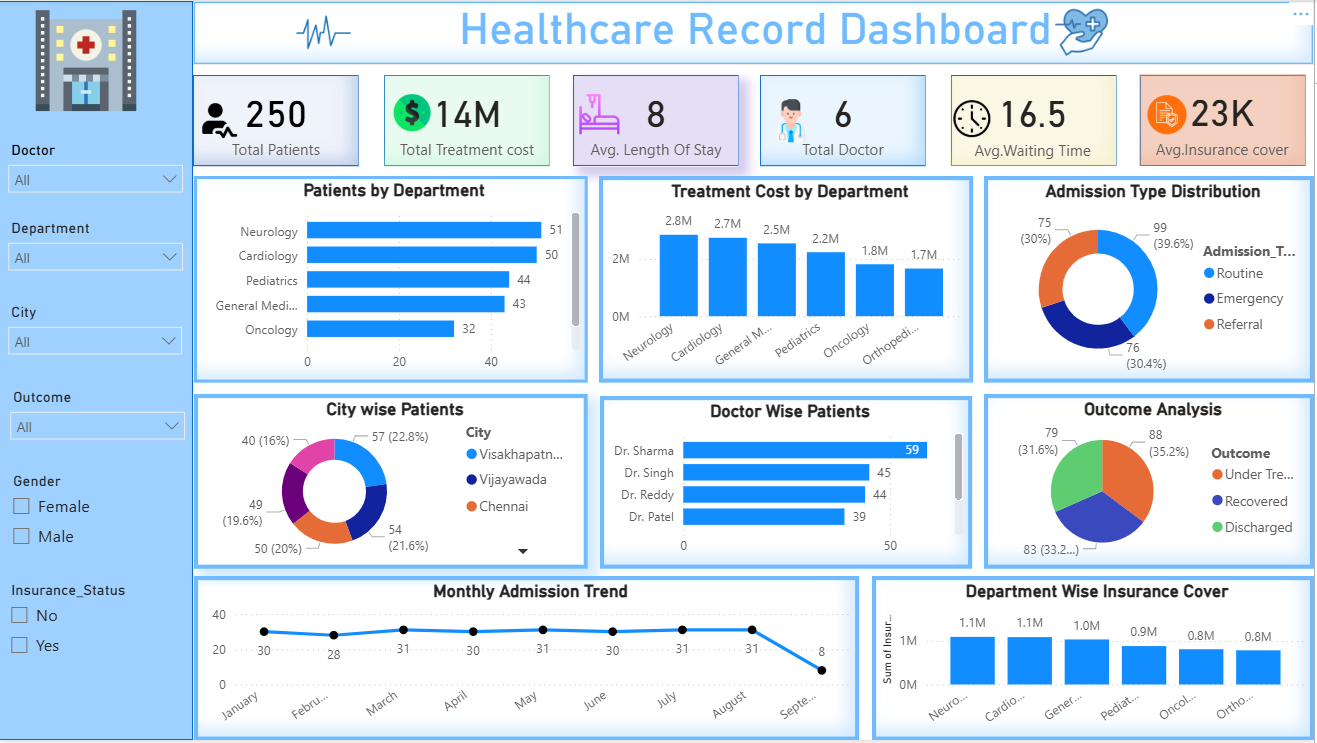

Layout of this report page (visuals, bound fields, positions):
{"tool":"powerbi","page":{"name":"Page 1","canvas":[1280,720],"ordinal":0},"visuals":[{"type":"textbox","title":"Healthcare Record Dashboard","box":[189.7,1,1090.3,62.2],"z":0},{"type":"shape","box":[0,1,189.7,718.8],"z":1000},{"type":"image","box":[979.5,0,149.8,63.2],"z":2000},{"type":"image","box":[241.2,0,151.7,63.2],"z":3000},{"type":"shape","box":[189.7,72.9,161.5,88.5],"z":4000},{"type":"shape","box":[375.4,72.9,161.5,88.5],"z":5000},{"type":"shape","box":[559.3,72.9,161.5,88.5],"z":6000},{"type":"shape","box":[741.2,72.9,161.5,88.5],"z":7000},{"type":"shape","box":[926.9,72.9,161.5,88.5],"z":8000},{"type":"shape","box":[1110.8,72.9,161.5,88.5],"z":9000},{"type":"card","fields":{"Values":["Healthcare Data.count_patient"]},"box":[189.7,72.9,161.5,88.5],"z":10000},{"type":"image","box":[189.7,95.3,51.6,43.8],"z":11000},{"type":"card","fields":{"Values":["Sum(Healthcare Data.Treatment_Cost)"]},"box":[375.4,72.9,161.5,88.5],"z":12000},{"type":"card","fields":{"Values":["Healthcare Data.Avg.Insurance cover"]},"box":[1110.1,71.9,161.9,88.9],"z":13000},{"type":"card","fields":{"Values":["Healthcare Data.Average_waiting"]},"box":[926.3,73.9,160.9,87.9],"z":14000},{"type":"card","fields":{"Values":["Healthcare Data.Total_Doctor"]},"box":[741.2,72.9,161.5,88.5],"z":15000},{"type":"card","fields":{"Values":["Healthcare Data.average_Stay"]},"box":[559.3,72.9,161.5,88.5],"z":16000},{"type":"image","box":[362.8,86.6,80.7,45.7],"z":17000},{"type":"image","box":[739.2,91.4,63.2,51.6],"z":18000},{"type":"image","box":[552.5,86.6,64.2,48.6],"z":19000},{"type":"image","box":[916.3,91.9,63,46],"z":20000},{"type":"image","box":[1102.1,87.9,69.9,48],"z":21000},{"type":"barChart","title":"Patients by Department","fields":{"Y":["Healthcare Data.count_patient"],"Category":["Healthcare Data.Department"]},"box":[190.6,171.2,383.2,201.3],"z":22000},{"type":"columnChart","title":"Treatment Cost by Department","fields":{"Y":["Sum(Healthcare Data.Treatment_Cost)"],"Category":["Healthcare Data.Department"]},"box":[584.6,171.2,363.8,201.3],"z":23000},{"type":"donutChart","title":"Admission Type Distribution","fields":{"Category":["Healthcare Data.Admission_Type"],"Y":["Healthcare Data.count_patient"]},"box":[959,171.2,321,201.3],"z":24000},{"type":"lineChart","title":"Monthly Admission Trend","fields":{"Category":["Healthcare Data.Admission_Date.Variation.Date Hierarchy.Month"],"Y":["Healthcare Data.count_patient"]},"box":[190.6,560.2,646.8,159.5],"z":25000},{"type":"donutChart","title":"City wise Patients","fields":{"Category":["Healthcare Data.City"],"Y":["Healthcare Data.count_patient"]},"box":[190.6,383.2,383.2,170.2],"z":26000},{"type":"clusteredBarChart","title":"Doctor Wise Patients","fields":{"Category":["Healthcare Data.Doctor"],"Y":["Healthcare Data.count_patient"]},"box":[585.5,385.2,361.8,168.3],"z":27000},{"type":"pieChart","title":"Outcome Analysis","fields":{"Category":["Healthcare Data.Outcome"],"Y":["Healthcare Data.count_patient"]},"box":[959,383.2,321,170.2],"z":28000},{"type":"columnChart","title":"Department Wise Insurance Cover","fields":{"Category":["Healthcare Data.Department"],"Y":["Sum(Healthcare Data.Insurance_Cover)"]},"box":[850.1,560.2,429.9,159.5],"z":29000},{"type":"image","box":[14.6,0,143,117.7],"z":30000},{"type":"slicer","fields":{"Values":["Healthcare Data.Doctor"]},"box":[0,132.3,189.7,82.7],"z":31000},{"type":"slicer","fields":{"Values":["Healthcare Data.Gender"]},"box":[1.9,454.2,190.6,92.4],"z":31001},{"type":"slicer","fields":{"Values":["Healthcare Data.Department"]},"box":[0,208.1,189.7,92.4],"z":31002},{"type":"slicer","fields":{"Values":["Healthcare Data.City"]},"box":[0,289.8,188.7,82.7],"z":31003},{"type":"slicer","fields":{"Values":["Healthcare Data.Outcome"]},"box":[1.9,372.5,189.7,81.7],"z":31004},{"type":"slicer","fields":{"Values":["Healthcare Data.Insurance_Status"]},"box":[0,560.2,189.7,92.4],"z":31005}]}

Visuals, with their boxes in screenshot pixels (x1, y1, x2, y2), scaled from the page's 1280x720 canvas onto the 1317x743 screenshot:
"Healthcare Record Dashboard" textbox: BBox(195, 1, 1316, 65)
shape: BBox(0, 1, 195, 742)
image: BBox(1008, 0, 1162, 65)
image: BBox(248, 0, 404, 65)
shape: BBox(195, 75, 361, 167)
shape: BBox(386, 75, 552, 167)
shape: BBox(575, 75, 742, 167)
shape: BBox(763, 75, 929, 167)
shape: BBox(954, 75, 1120, 167)
shape: BBox(1143, 75, 1309, 167)
card - Healthcare Data.count_patient: BBox(195, 75, 361, 167)
image: BBox(195, 98, 248, 144)
card - Sum(Healthcare Data.Treatment_Cost): BBox(386, 75, 552, 167)
card - Healthcare Data.Avg.Insurance cover: BBox(1142, 74, 1309, 166)
card - Healthcare Data.Average_waiting: BBox(953, 76, 1119, 167)
card - Healthcare Data.Total_Doctor: BBox(763, 75, 929, 167)
card - Healthcare Data.average_Stay: BBox(575, 75, 742, 167)
image: BBox(373, 89, 456, 137)
image: BBox(761, 94, 826, 148)
image: BBox(568, 89, 635, 140)
image: BBox(943, 95, 1008, 142)
image: BBox(1134, 91, 1206, 140)
"Patients by Department" barChart: BBox(196, 177, 590, 384)
"Treatment Cost by Department" columnChart: BBox(601, 177, 976, 384)
"Admission Type Distribution" donutChart: BBox(987, 177, 1316, 384)
"Monthly Admission Trend" lineChart: BBox(196, 578, 862, 742)
"City wise Patients" donutChart: BBox(196, 395, 590, 571)
"Doctor Wise Patients" clusteredBarChart: BBox(602, 398, 975, 571)
"Outcome Analysis" pieChart: BBox(987, 395, 1316, 571)
"Department Wise Insurance Cover" columnChart: BBox(875, 578, 1316, 742)
image: BBox(15, 0, 162, 121)
slicer - Healthcare Data.Doctor: BBox(0, 137, 195, 222)
slicer - Healthcare Data.Gender: BBox(2, 469, 198, 564)
slicer - Healthcare Data.Department: BBox(0, 215, 195, 310)
slicer - Healthcare Data.City: BBox(0, 299, 194, 384)
slicer - Healthcare Data.Outcome: BBox(2, 384, 197, 469)
slicer - Healthcare Data.Insurance_Status: BBox(0, 578, 195, 673)
